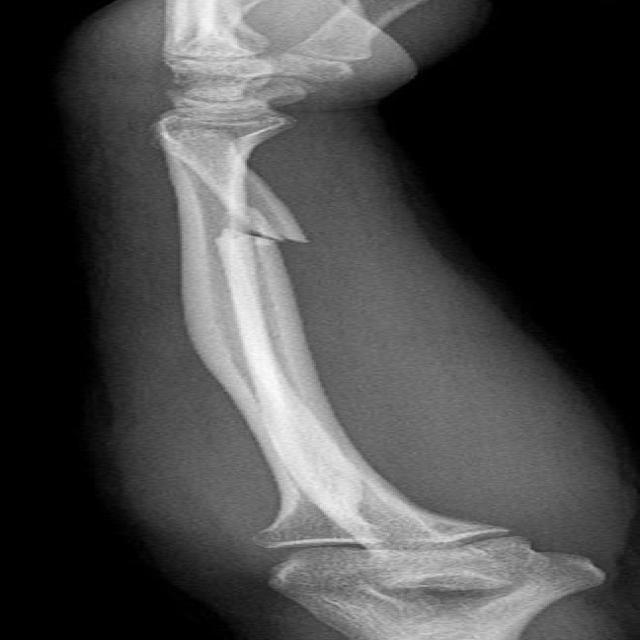fractured: (169, 193, 348, 251)
